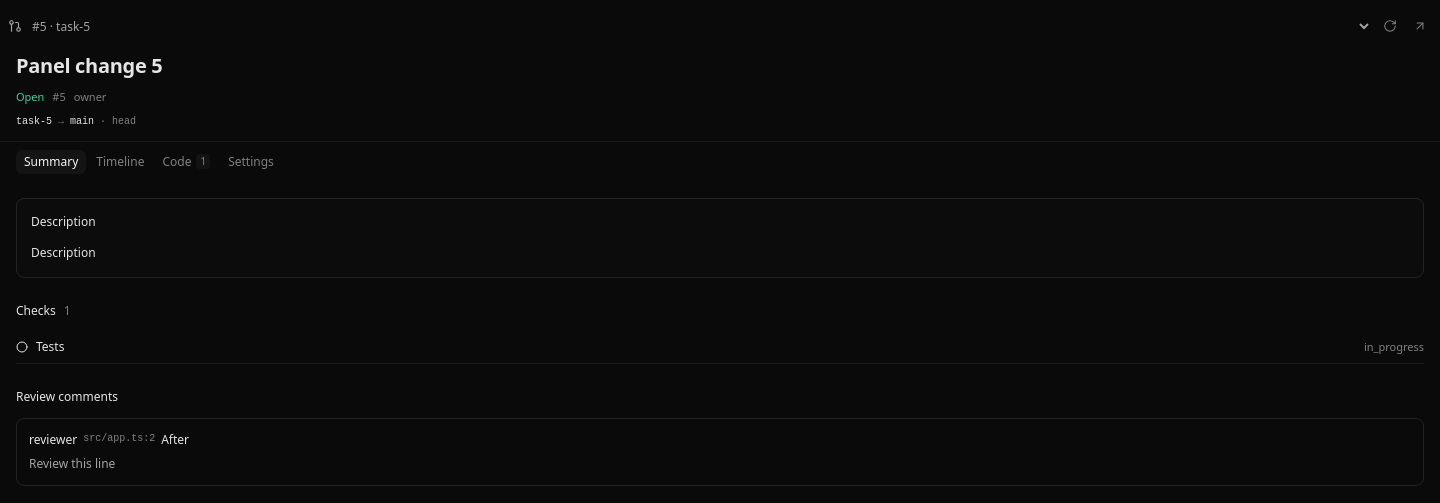
pull request panel › still opens the matching file and its anchored comment
Step 1. Click the button "reviewer src/app.ts:2 After Review this line" → (53, 439), box [16,418,1424,486]
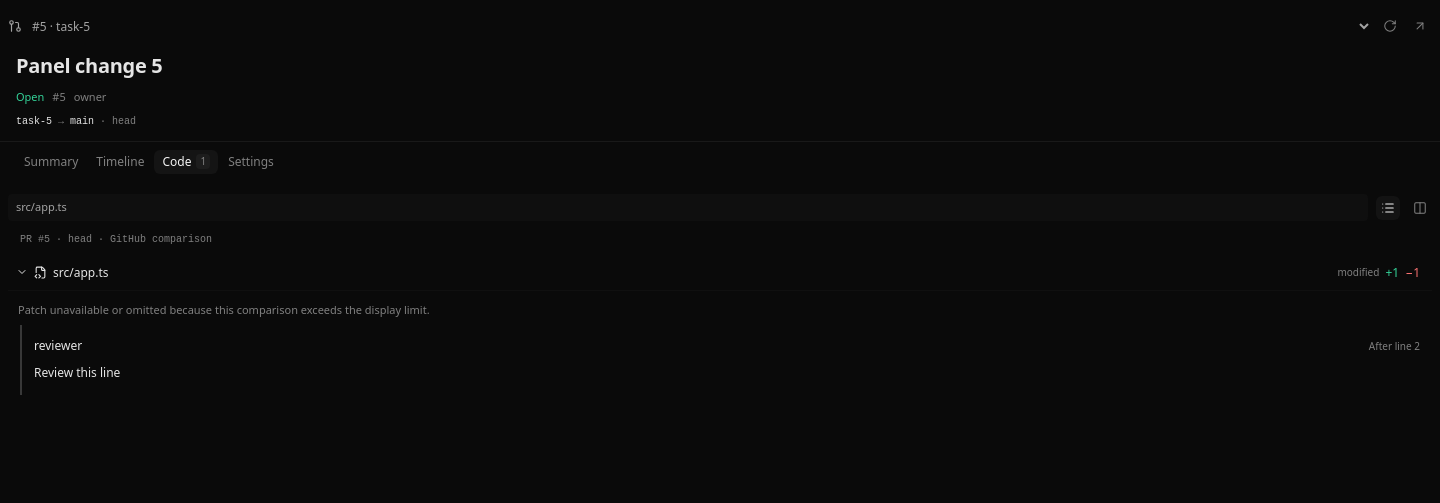
Result: the field named "Filter pull request files" holds "src/app.ts" at [8,194,1368,221]
